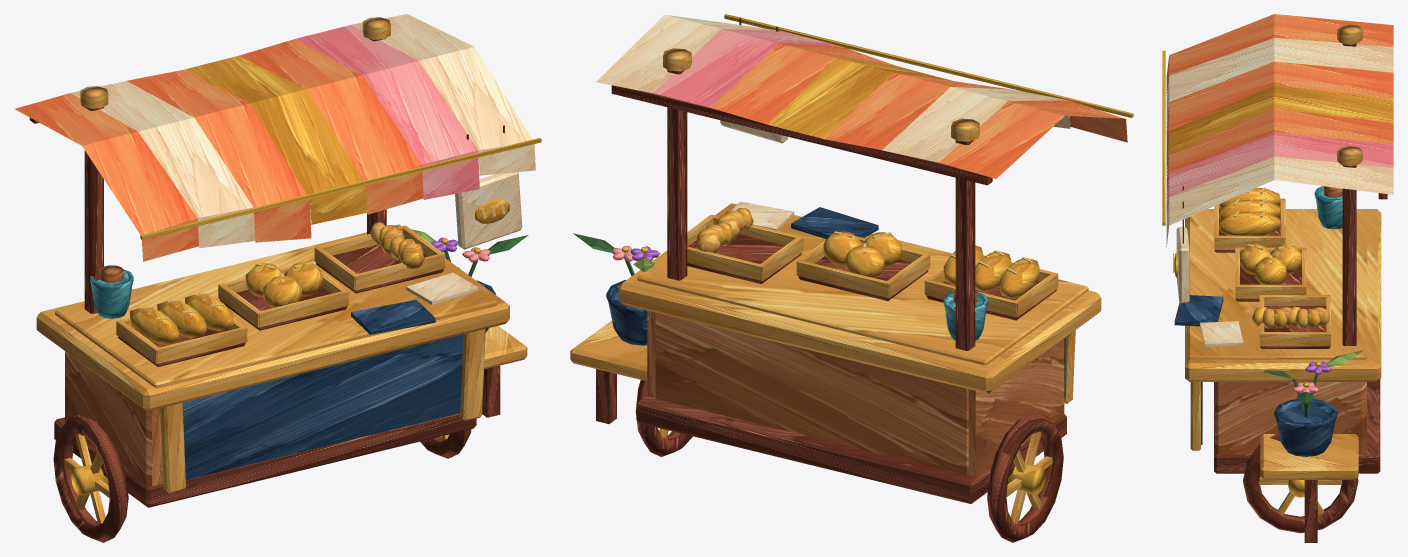
Rendered from prior-bread_cart-05.glb.
3 renders of one model, left to right at view 1: azimuth 30°, elevation 25°; view 2: azimuth 150°, elevation 25°; view 3: azimuth 270°, elevation 25°, orthographic. The views are drawn at different scales.
Visible parts, largest first — view 1: bread_cart; view 2: bread_cart; view 3: bread_cart.
Boxes of the visible parts, x1=… form: bread_cart: x1=15, y1=14, x2=541, y2=542; bread_cart: x1=570, y1=14, x2=1133, y2=542; bread_cart: x1=1162, y1=14, x2=1393, y2=542.
Bounding box in the file's own units: 2.72 × 2.32 × 1.32.
Materials: 3 (3 with a texture image).
